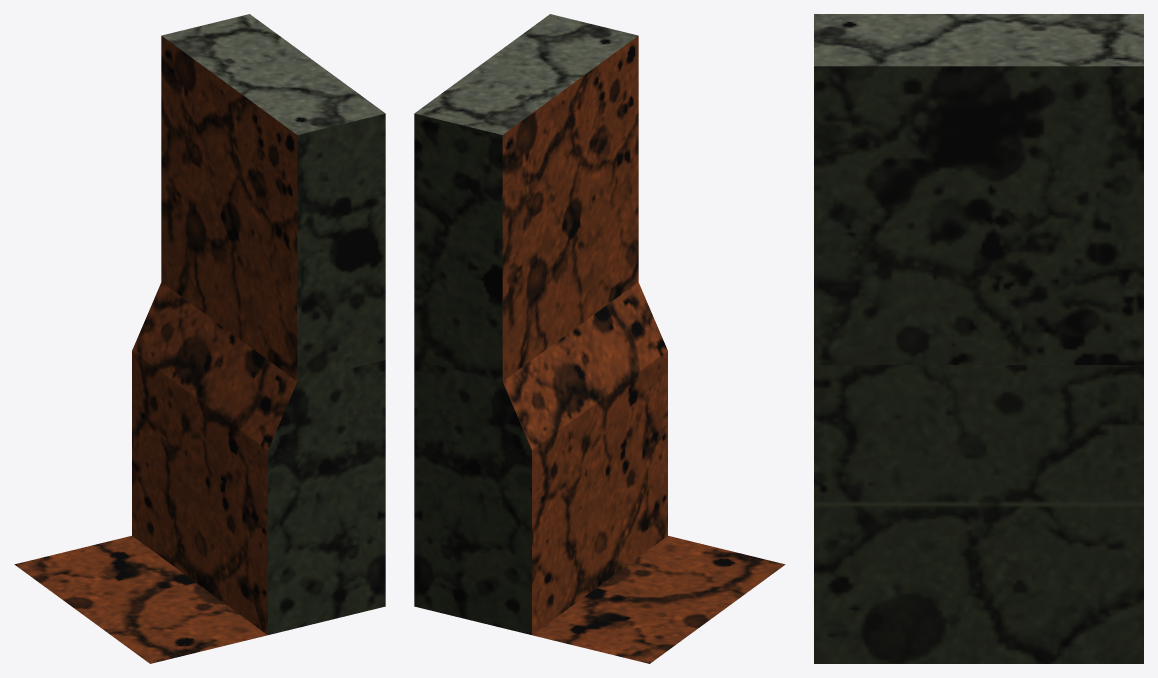
File: Env_Ctn_Wall_Short_CW.fbx
3 renders of one model, left to right at view 1: azimuth 30°, elevation 25°; view 2: azimuth 150°, elevation 25°; view 3: azimuth 270°, elevation 25°, orthographic. The views are drawn at different scales.
Visible parts, largest first — view 1: Wall_Short_Top, Wall_Short, Floor_Edge_Short; view 2: Wall_Short_Top, Wall_Short, Floor_Edge_Short; view 3: Wall_Short_Top, Wall_Short.
Boxes of the visible parts, bbox=[...] form: Wall_Short_Top: bbox=[161, 14, 385, 381]; Wall_Short: bbox=[132, 282, 385, 634]; Floor_Edge_Short: bbox=[14, 536, 267, 663]; Wall_Short_Top: bbox=[414, 14, 638, 381]; Wall_Short: bbox=[414, 282, 667, 634]; Floor_Edge_Short: bbox=[532, 536, 785, 663]; Wall_Short_Top: bbox=[814, 14, 1143, 364]; Wall_Short: bbox=[814, 365, 1143, 663].
Bounding box in the file's own units: 100 × 200 × 100.
